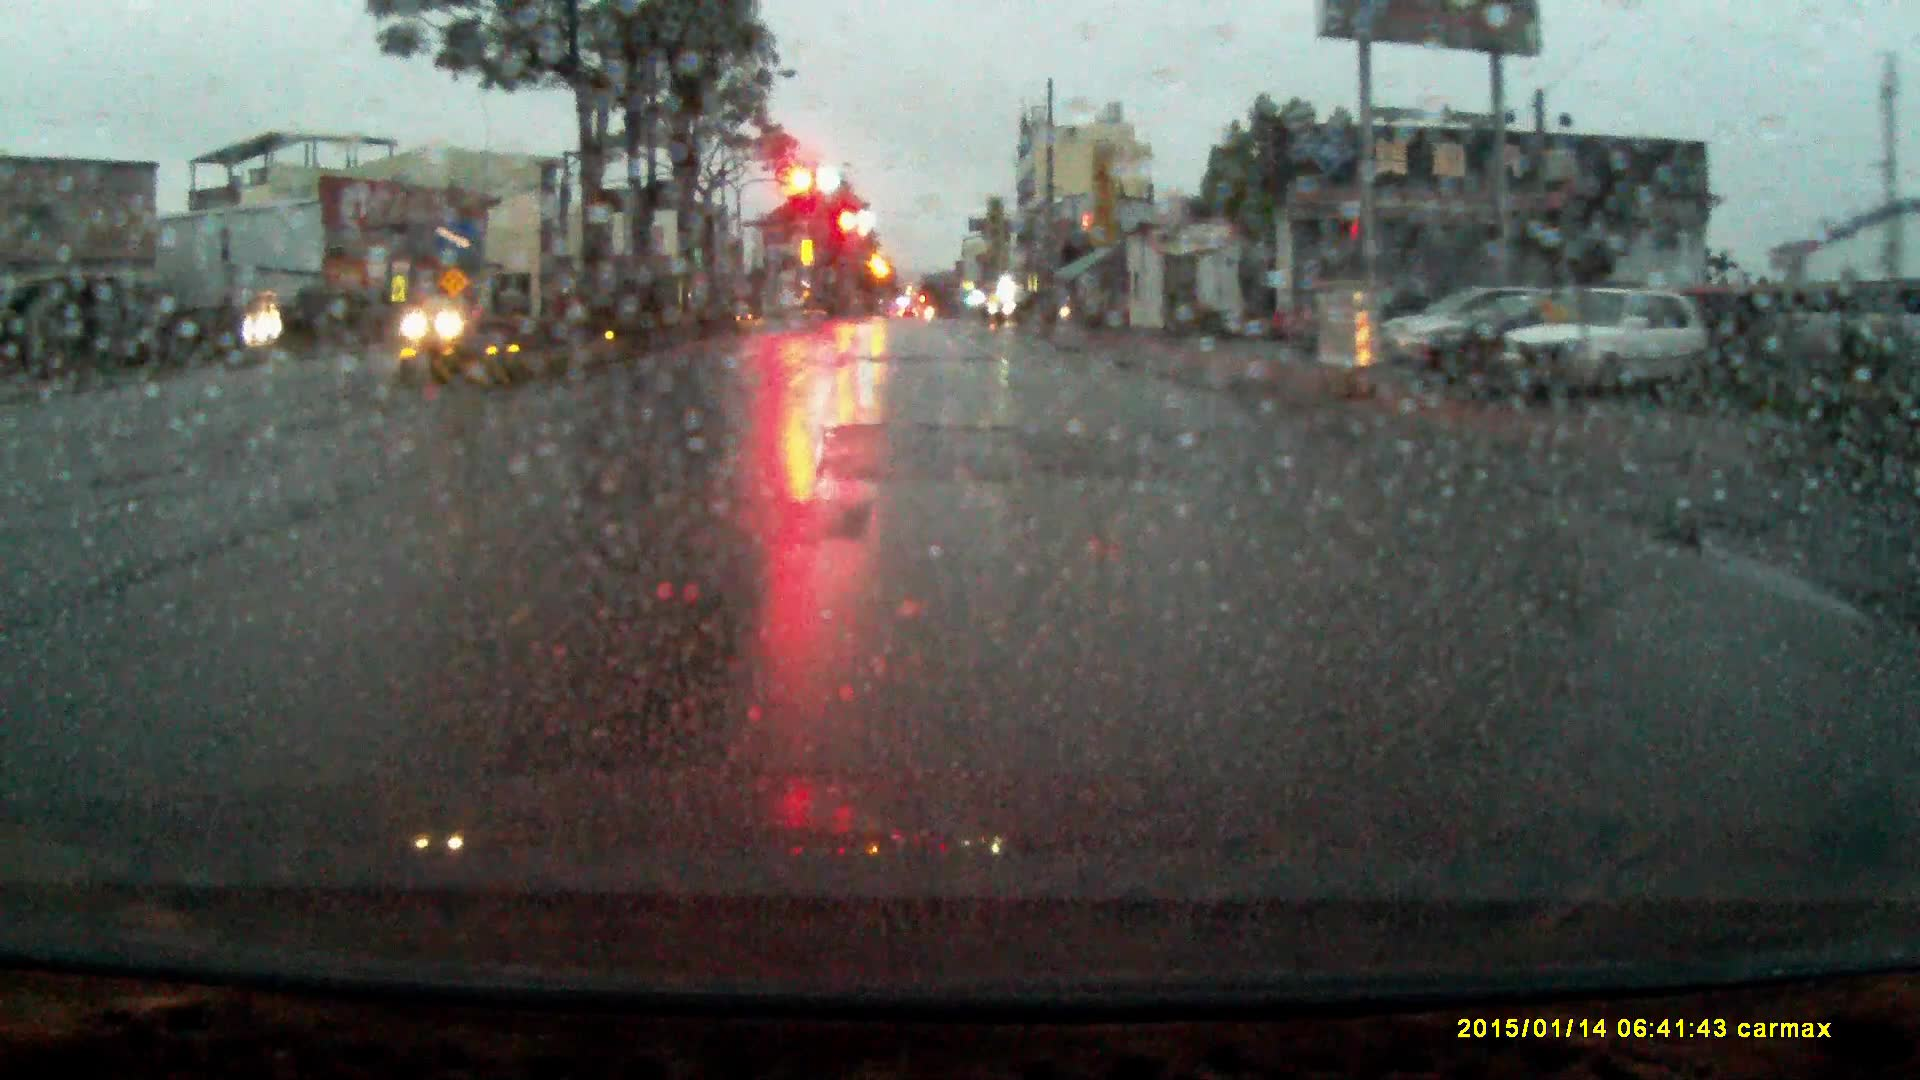vehicle: (1497, 287, 1710, 402), (1414, 287, 1582, 380), (1385, 287, 1507, 367), (400, 291, 495, 348), (989, 287, 1065, 324)
